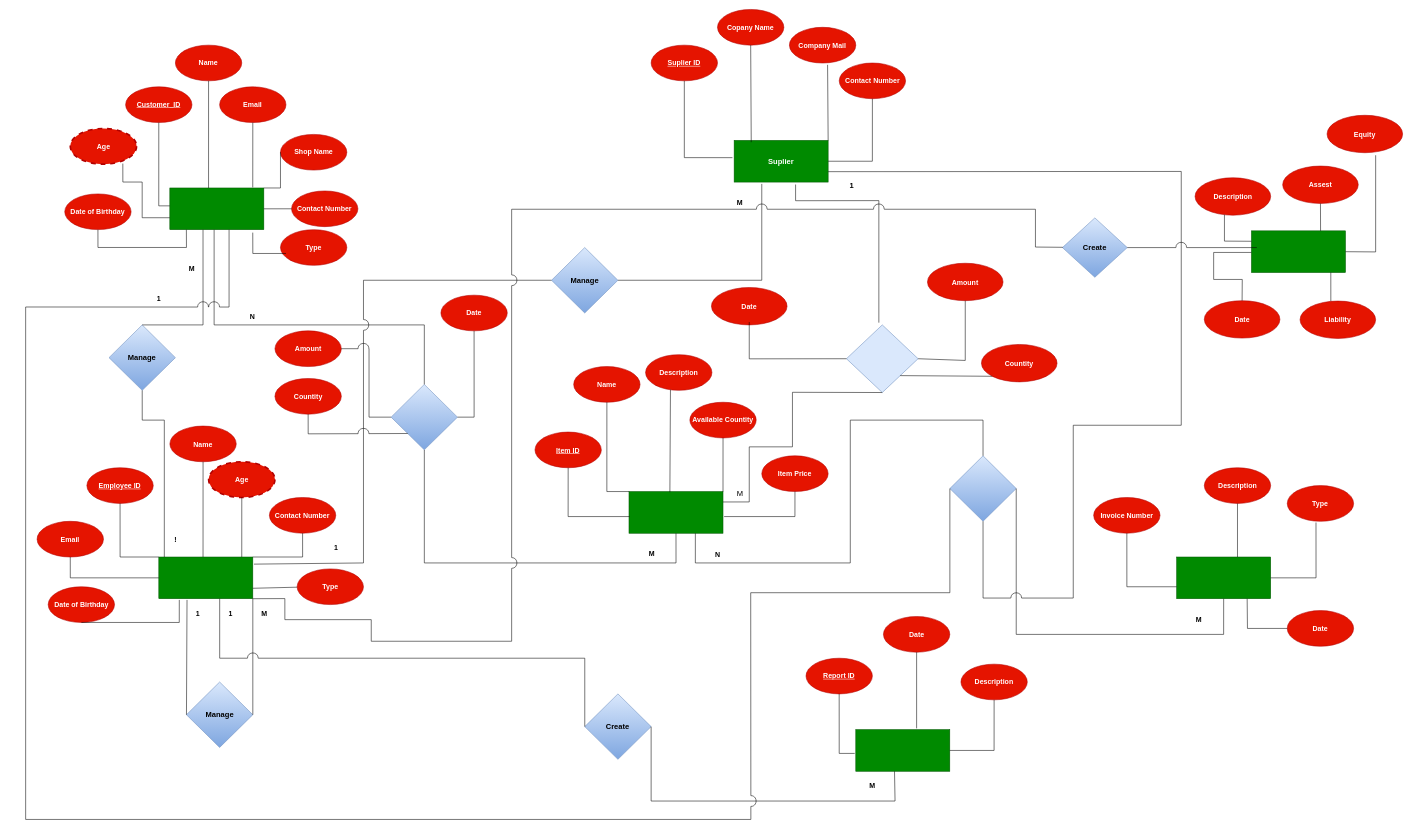
Image size: 1425x834. Some labels were removed from this diagram. Each missing label, with the centre of its shape:
Accounting: pixel 1298 251
Buy: pixel 424 417
Customer: pixel 216 208
Employee: pixel 205 577
Has: pixel 982 488
Invoice: pixel 1223 577
Item: pixel 675 512
Report: pixel 902 750
Suply: pixel 882 358
